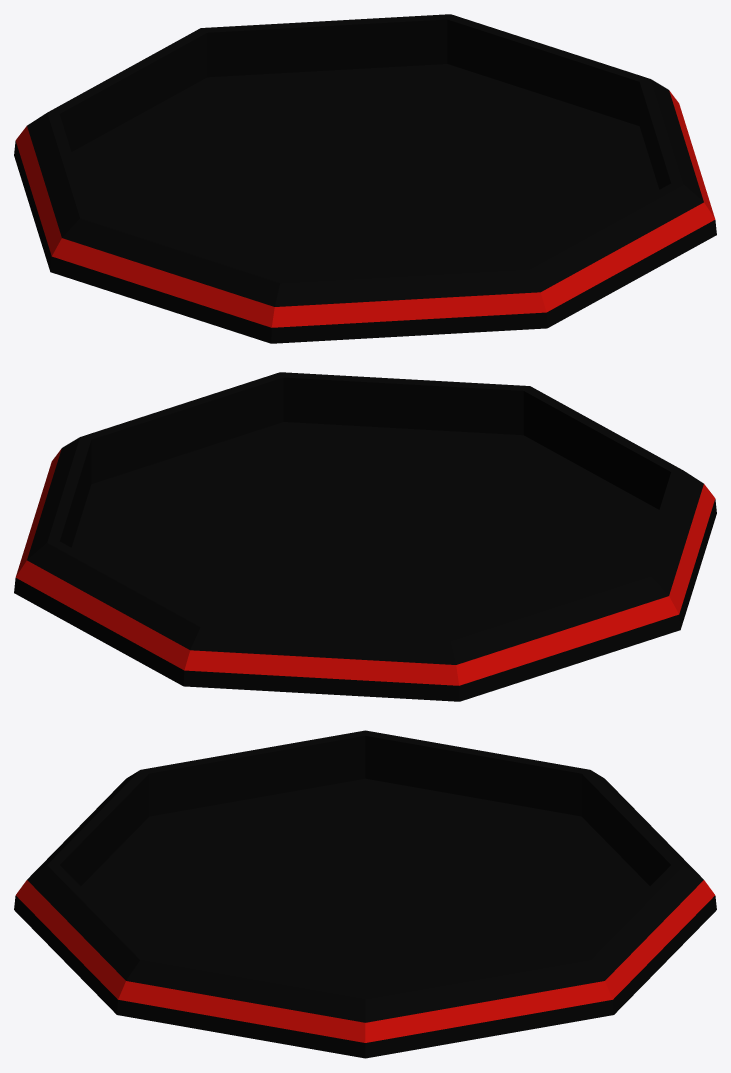
Rendered from C_Tray_1.fbx.
The picture shows the model from 3 angles, top to bottom: view 1: azimuth 30°, elevation 25°; view 2: azimuth 150°, elevation 25°; view 3: azimuth 270°, elevation 25°; orthographic projection. The views are drawn at different scales.
Parts seen in each view (by area): view 1: C_Tray_1; view 2: C_Tray_1; view 3: C_Tray_1.
Boxes of the visible parts, <box> form: C_Tray_1: <box>14,14,716,343</box>; C_Tray_1: <box>14,372,716,701</box>; C_Tray_1: <box>14,730,716,1058</box>.
Size of the model in its own units: 433 by 433 by 30.59.
